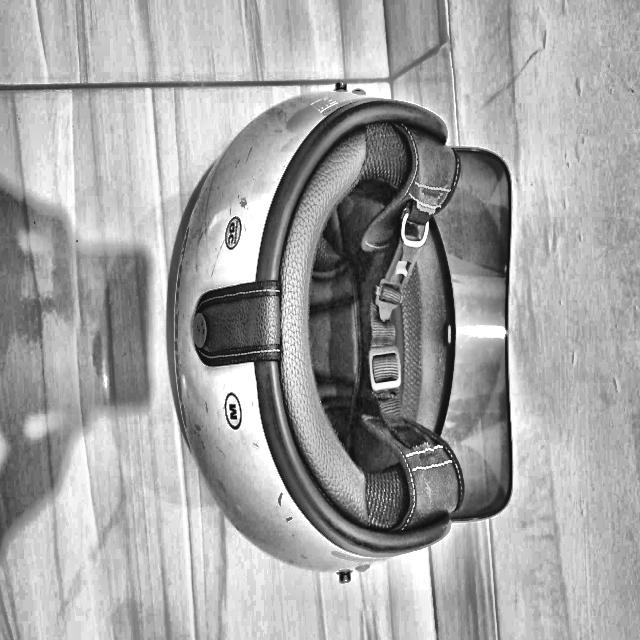Helmet: (298, 181, 627, 640)
